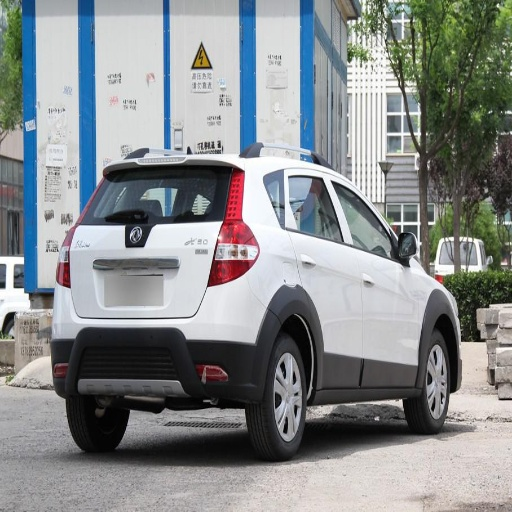back_bumper: (51, 273, 275, 404)
back_right_door: (288, 168, 363, 385)
tailgate: (72, 222, 218, 314)
trunk: (112, 226, 193, 291)
